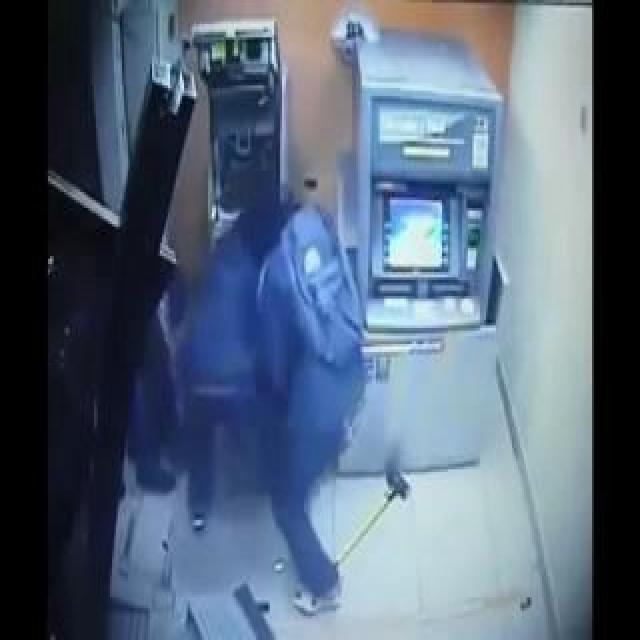thief: (191, 160, 314, 326)
